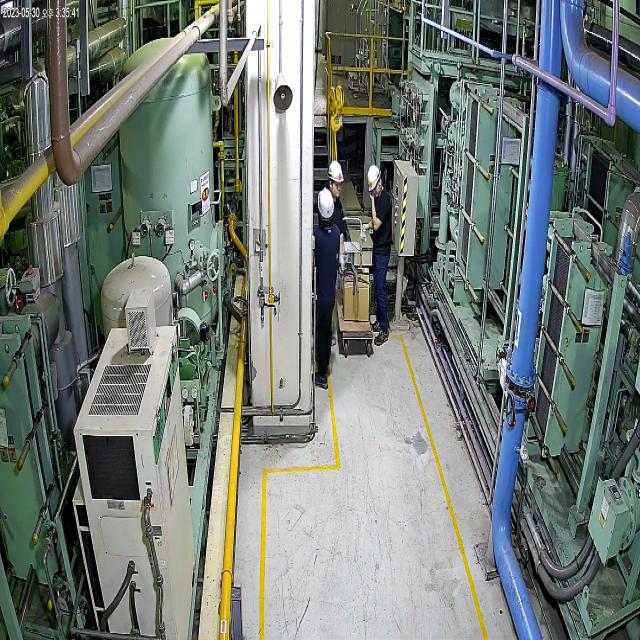worker: (306, 182, 338, 399), (362, 158, 398, 347), (323, 152, 348, 283)
